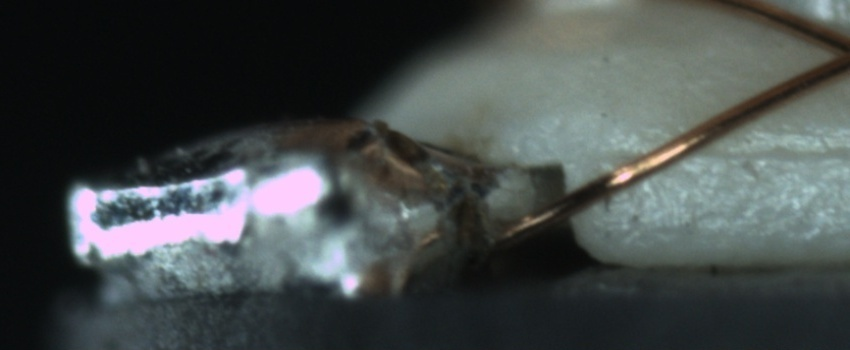CL: (807, 16, 850, 83)
DL: (624, 124, 850, 182)
